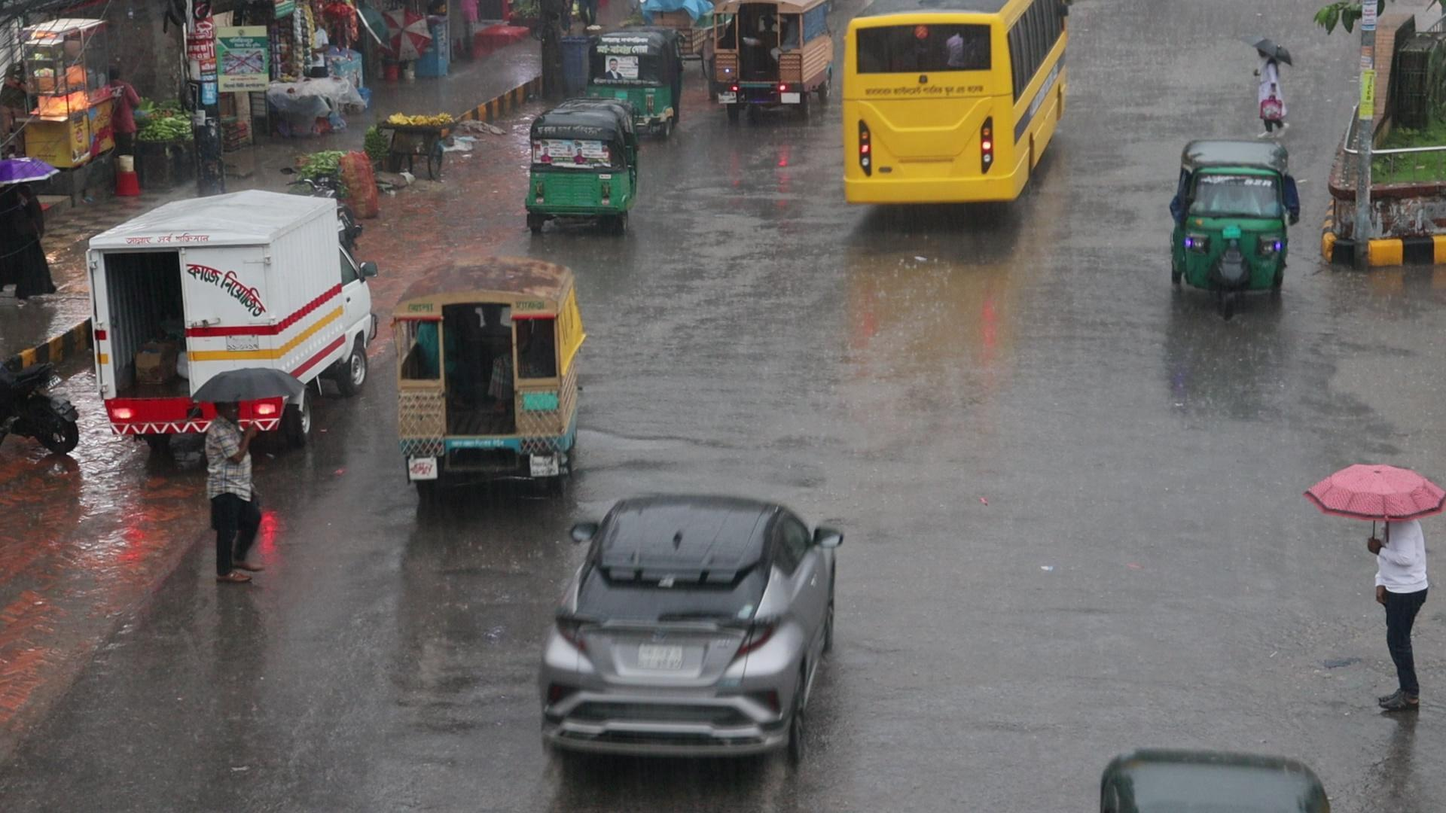Bus: (837, 0, 1072, 218)
Car: (533, 487, 841, 779)
Truck: (387, 252, 589, 504), (705, 1, 838, 127)
